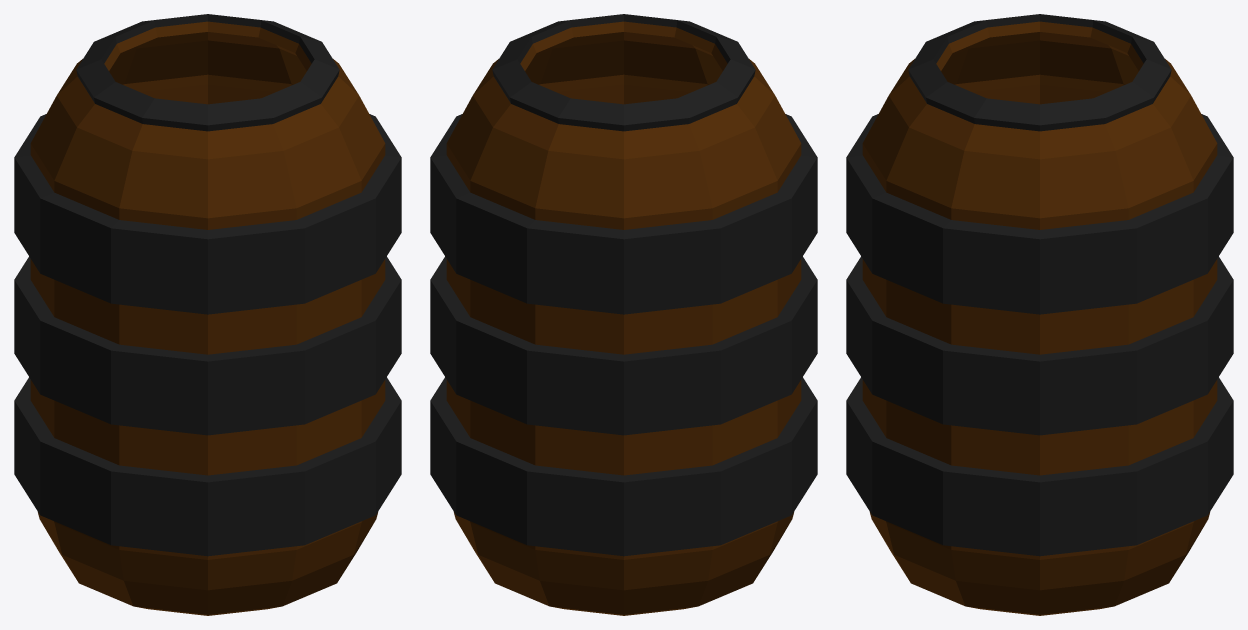
File: Barrel_02_Open.fbx
3 renders of one model, left to right at view 1: azimuth 30°, elevation 25°; view 2: azimuth 150°, elevation 25°; view 3: azimuth 270°, elevation 25°, orthographic.
Parts seen in each view (by area): view 1: Barrel_02_Open; view 2: Barrel_02_Open; view 3: Barrel_02_Open.
Part boxes in pixels (box(x1,y1,x2,y2)): Barrel_02_Open: box(14, 14, 401, 615); Barrel_02_Open: box(430, 14, 817, 615); Barrel_02_Open: box(846, 14, 1233, 615).
Bounding box in the file's own units: 63.25 × 91.2 × 63.25.
